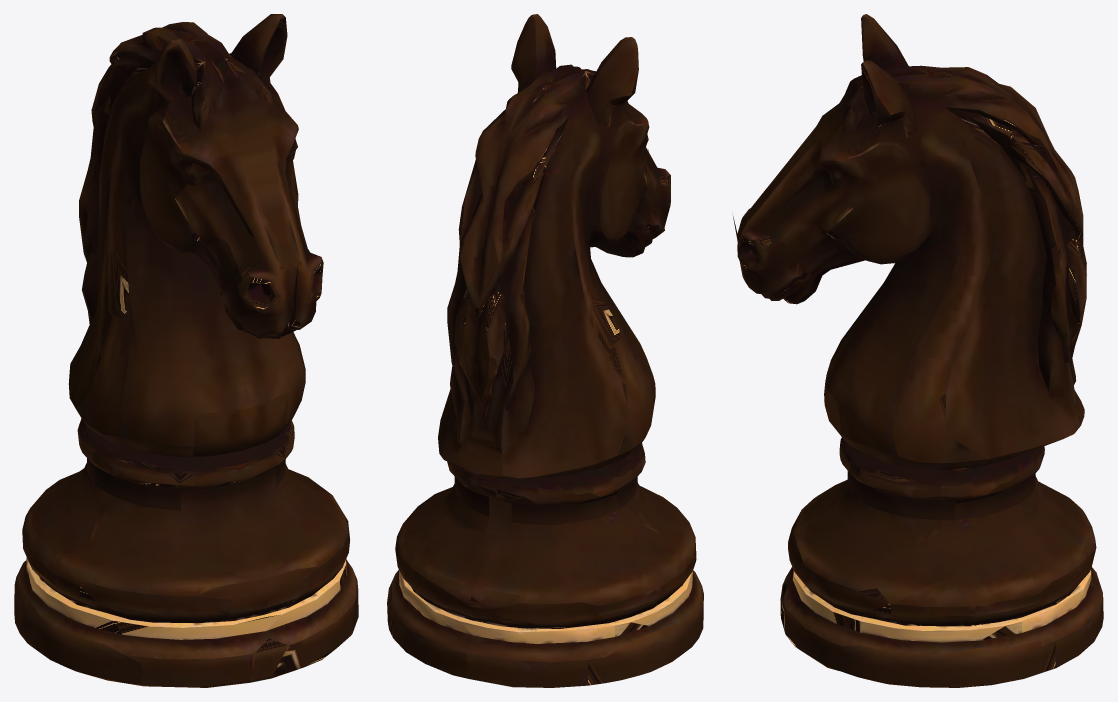
3 views of the same model, side by side, from view 1: azimuth 30°, elevation 25°; view 2: azimuth 150°, elevation 25°; view 3: azimuth 270°, elevation 25° (orthographic). The views are drawn at different scales.
Visible parts, largest first — view 1: geometry_0; view 2: geometry_0; view 3: geometry_0.
Part boxes in pixels (x1,y1,x2,y2): geometry_0: (14, 14, 358, 687); geometry_0: (387, 14, 703, 687); geometry_0: (732, 14, 1103, 687).
Bounding box in the file's own units: 0.5062 × 1 × 0.5798.
Materials: 1 (1 with a texture image).
